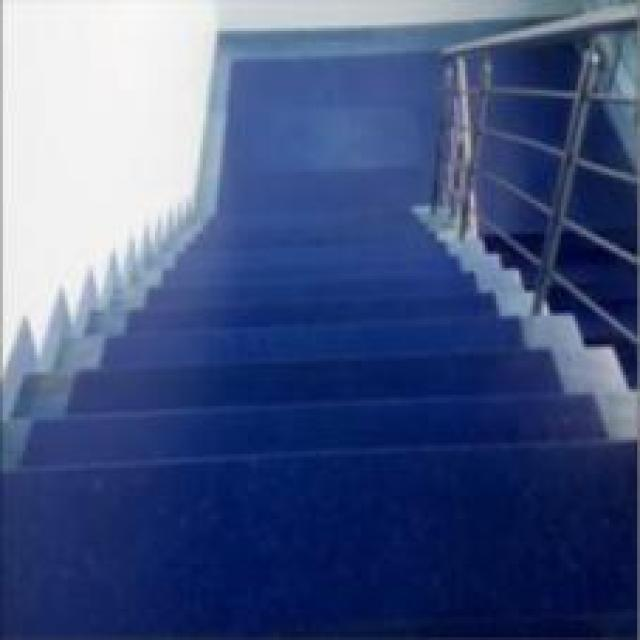downstair: (22, 350, 550, 538)
